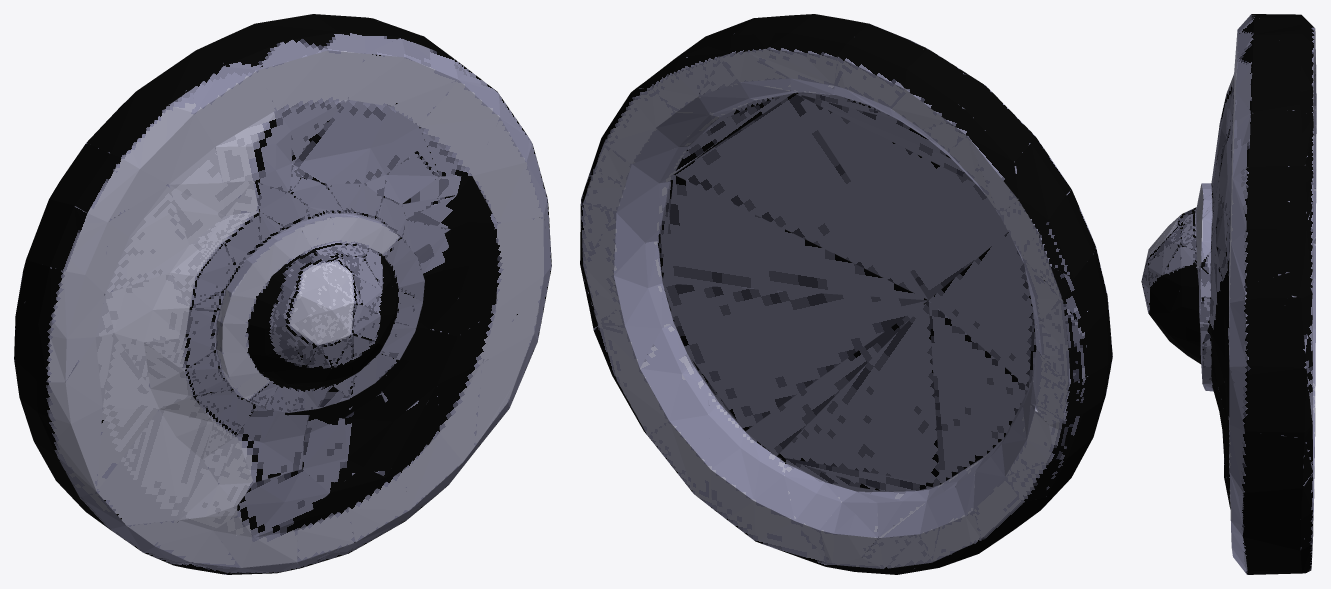
3 renders of one model, left to right at view 1: azimuth 30°, elevation 25°; view 2: azimuth 150°, elevation 25°; view 3: azimuth 270°, elevation 25°, orthographic. The views are drawn at different scales.
Visible parts, largest first — view 1: OBJ03e; view 2: OBJ03e; view 3: OBJ03e.
Part boxes in pixels (box(x1,y1,x2,y2)): OBJ03e: box(14, 14, 551, 574); OBJ03e: box(580, 14, 1112, 574); OBJ03e: box(1141, 14, 1316, 574).
Bounding box in the file's own units: 0.2299 × 0.2297 × 0.0717.
1 material, 1 textured.
